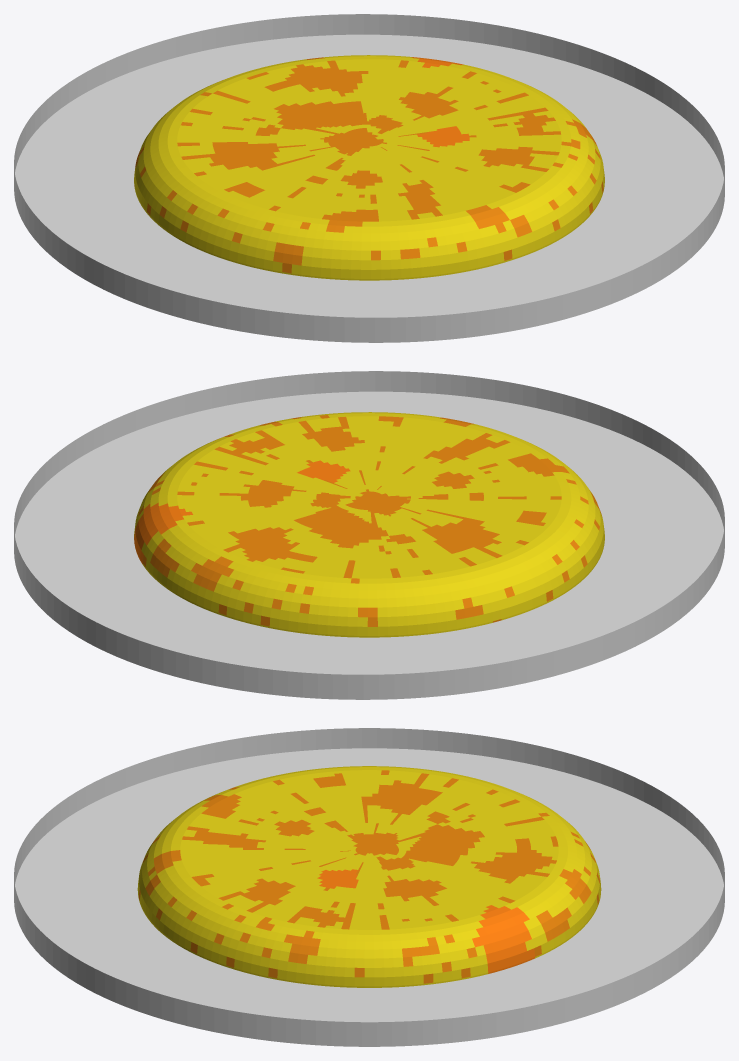
Rendered from tortilla.fbx.
3 views of the same model, one above another, from view 1: azimuth 30°, elevation 25°; view 2: azimuth 150°, elevation 25°; view 3: azimuth 270°, elevation 25° (orthographic).
Parts seen in each view (by area): view 1: Cube.001, Cube; view 2: Cube.001, Cube; view 3: Cube.001, Cube.
Part boxes in pixels (x1,y1,x2,y2): Cube.001: [14, 14, 724, 342]; Cube: [134, 55, 604, 280]; Cube.001: [14, 371, 724, 699]; Cube: [134, 412, 604, 637]; Cube.001: [14, 728, 724, 1046]; Cube: [137, 766, 601, 987].
Bounding box in the file's own units: 300 × 23.72 × 307.
